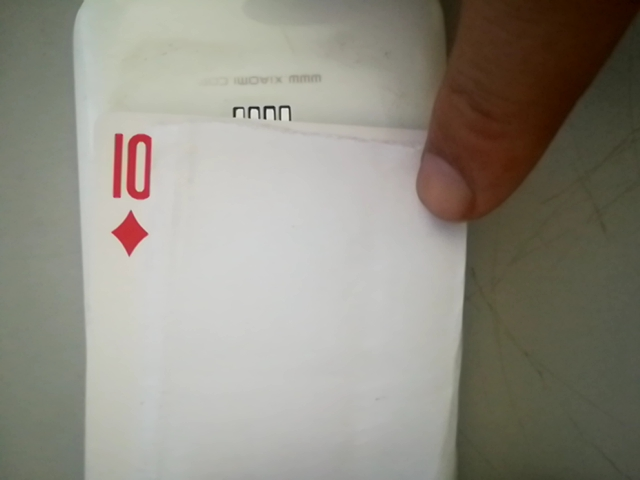fk 10: (97, 127, 166, 259)
